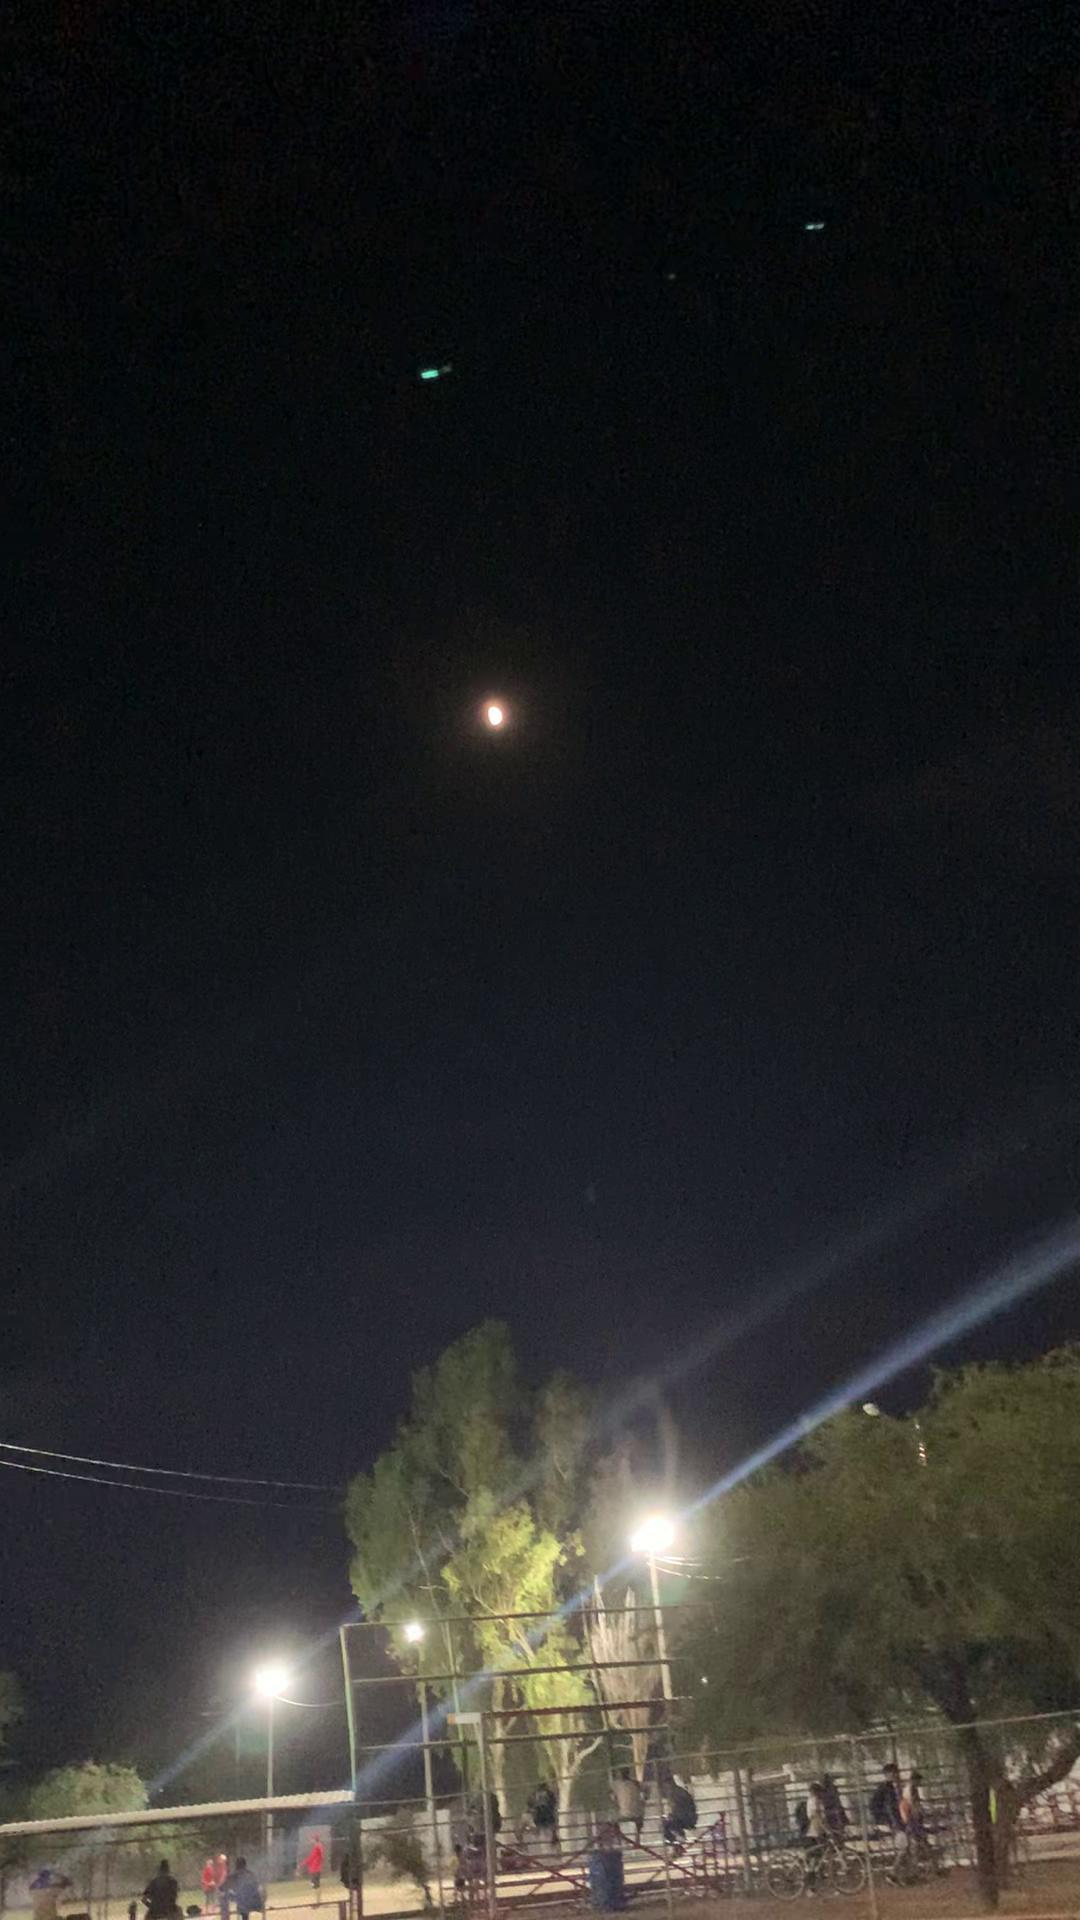moon: (465, 684, 527, 760)
